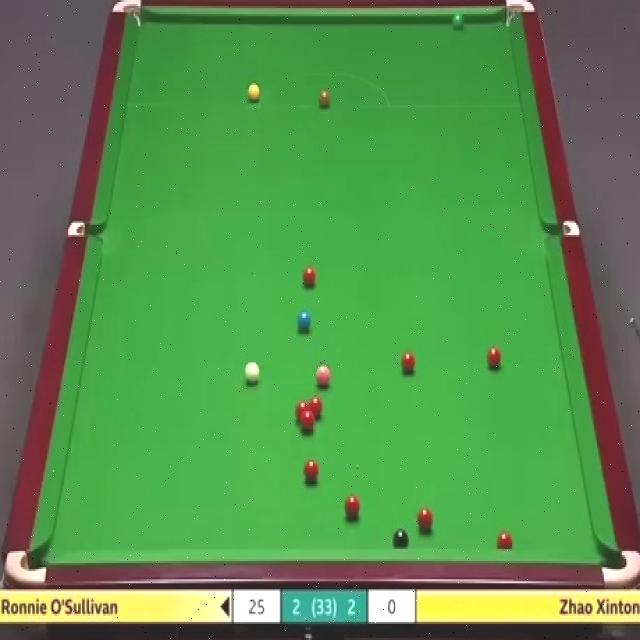black-ball: (392, 529, 410, 549)
blue-ball: (296, 309, 312, 337)
brown-ball: (318, 86, 332, 112)
green-ball: (452, 12, 464, 31)
pink-ball: (316, 366, 332, 391)
red-ball: (302, 458, 320, 486), (416, 507, 434, 533), (344, 494, 362, 520), (401, 351, 417, 375), (495, 530, 514, 549), (488, 346, 502, 371), (302, 265, 316, 287), (300, 410, 314, 431), (309, 397, 323, 416), (296, 401, 308, 417)
white-ball: (243, 359, 260, 386)
yellow-ball: (247, 81, 260, 104)
